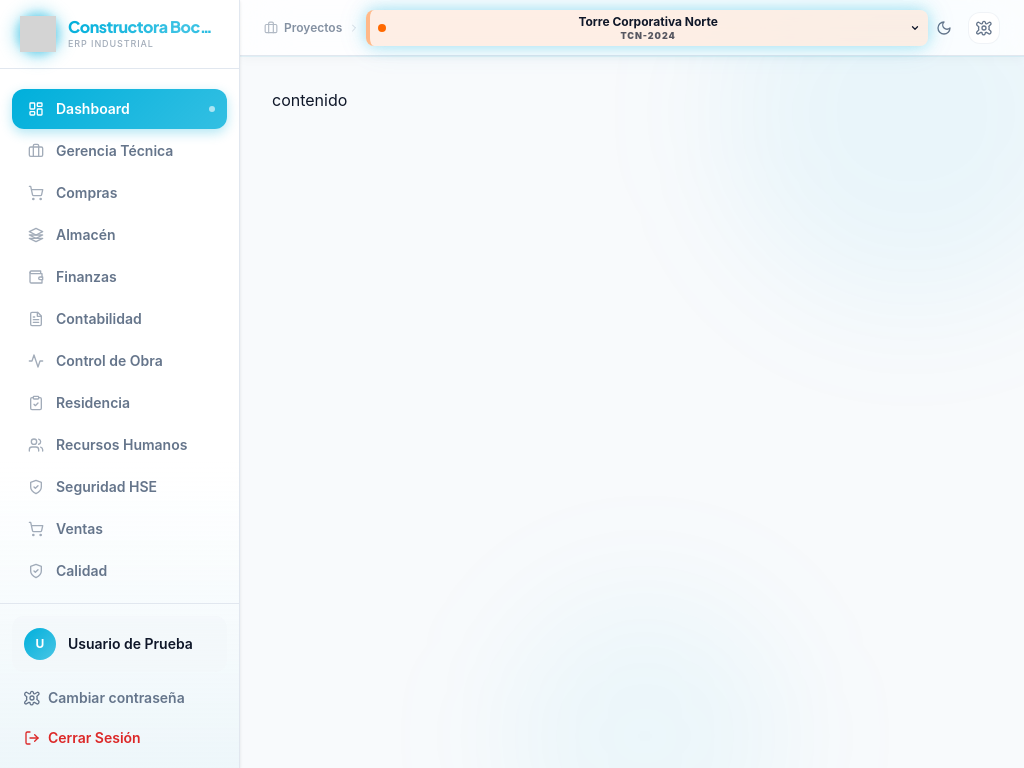
Layout — dropdown de proyecto no debe ser transparente/superpuesto › seleccionar un proyecto en el panel portal sigue funcionando (cierra y cambia de proyecto)
Click the text "TCN-2024".
click(648, 35)  # box [621,30,676,40]
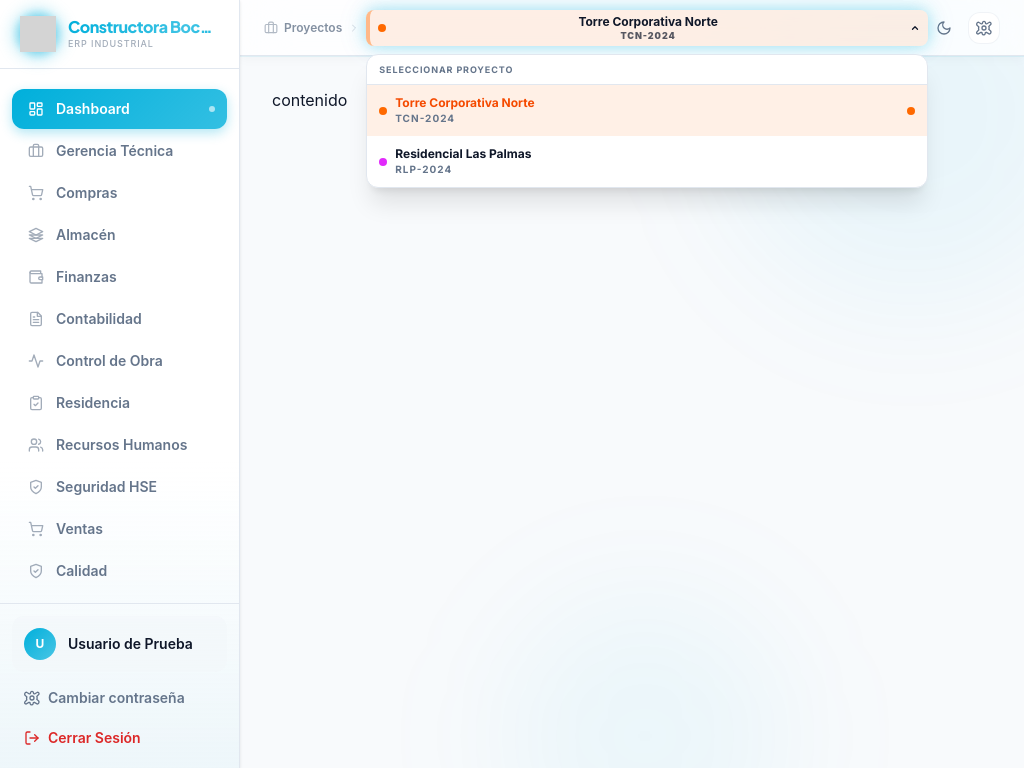
Click the text "Residencial Las Palmas".
click(463, 154)  # box [395,146,532,162]
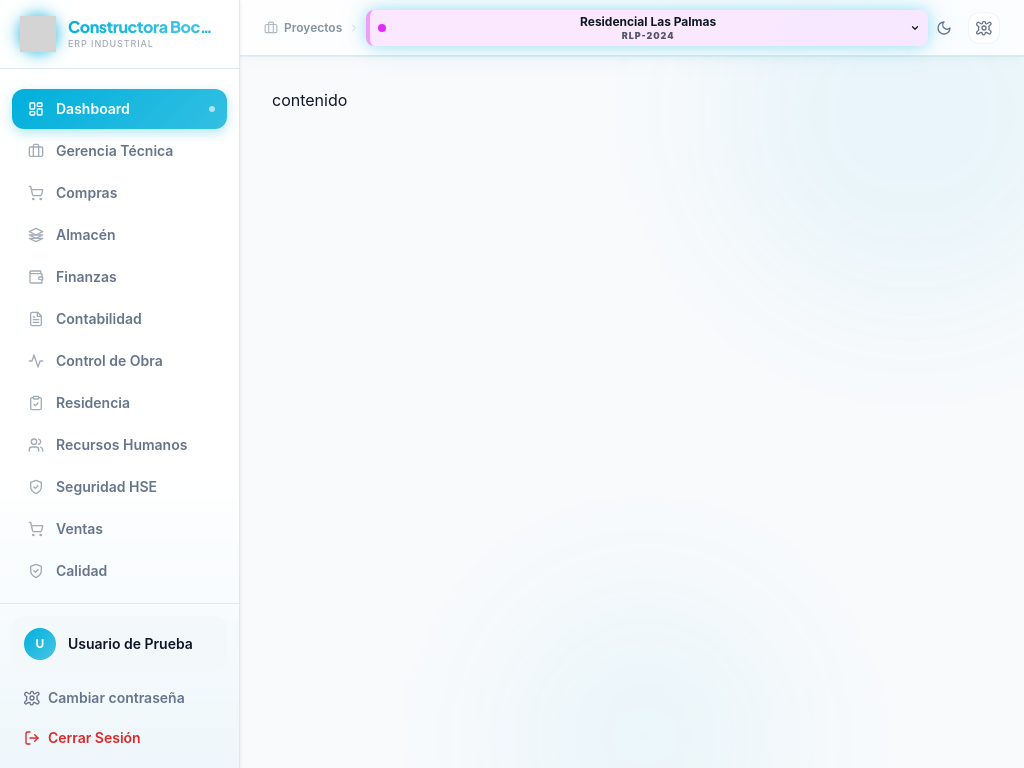
Expected: the text "Seleccionar proyecto" is gone
